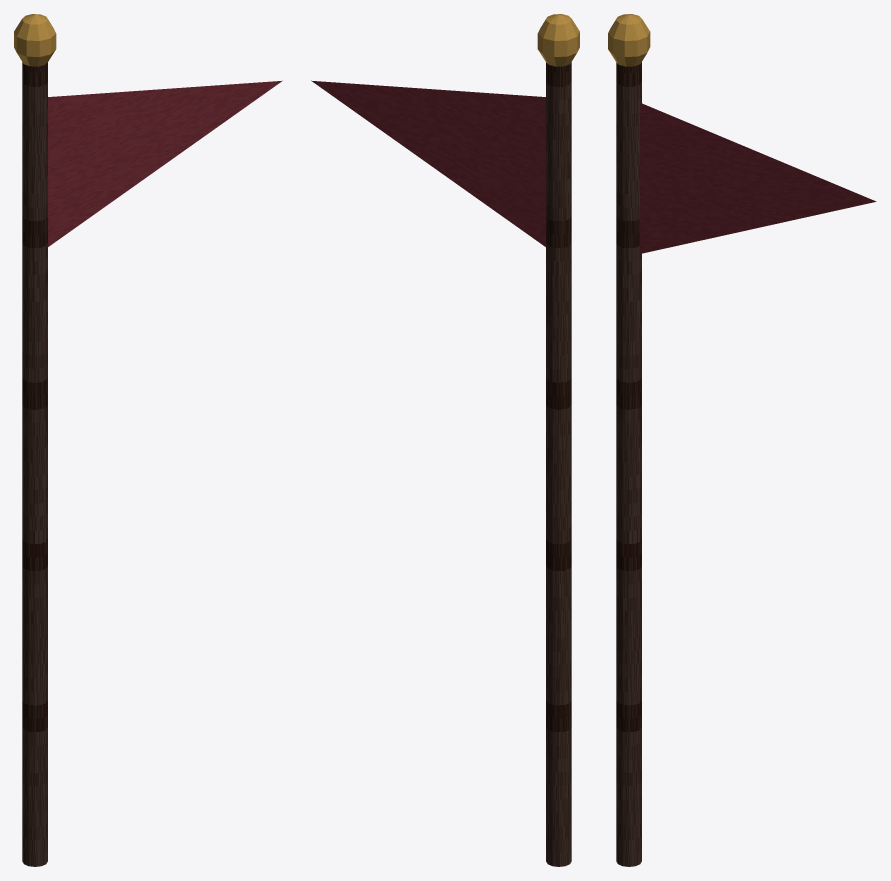
Rendered from flag.glb.
The picture shows the model from 3 angles, left to right: view 1: azimuth 30°, elevation 25°; view 2: azimuth 150°, elevation 25°; view 3: azimuth 330°, elevation 25°; orthographic projection.
Visible parts, largest first — view 1: pole, cloth, finial; view 2: pole, cloth, finial; view 3: pole, cloth, finial.
Boxes of the visible parts, <box> form: pole: <box>22,62,47,866</box>; cloth: <box>48,80,282,246</box>; finial: <box>14,14,56,66</box>; pole: <box>546,62,571,866</box>; cloth: <box>311,80,545,246</box>; finial: <box>537,14,579,66</box>; pole: <box>616,62,641,866</box>; cloth: <box>640,102,876,253</box>; finial: <box>608,14,650,66</box>.
Bounding box in the file's own units: 0.9666 × 2.94 × 0.1266.
Materials: 1 (1 with a texture image).
